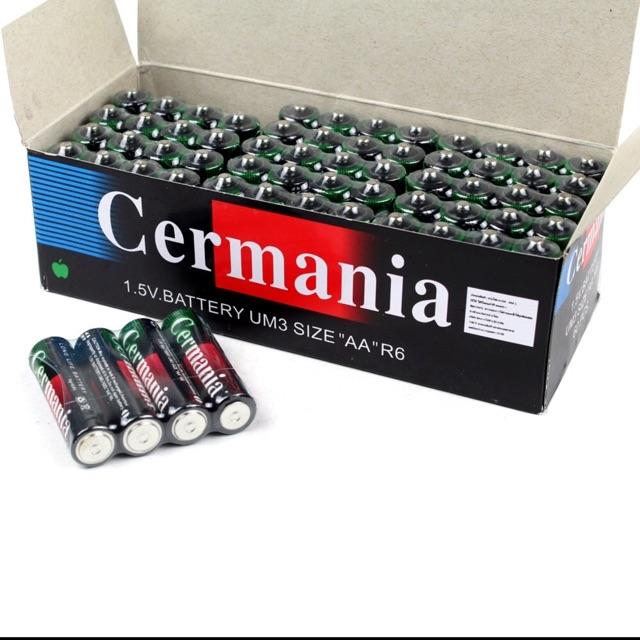Battery: (159, 304, 258, 436), (25, 333, 115, 470), (119, 317, 210, 449), (76, 328, 163, 460)
